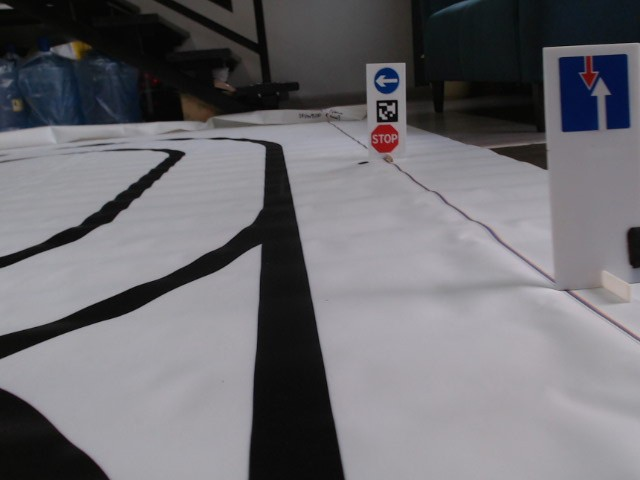Stop: (369, 123, 399, 153)
priority_movement: (555, 53, 636, 136)
